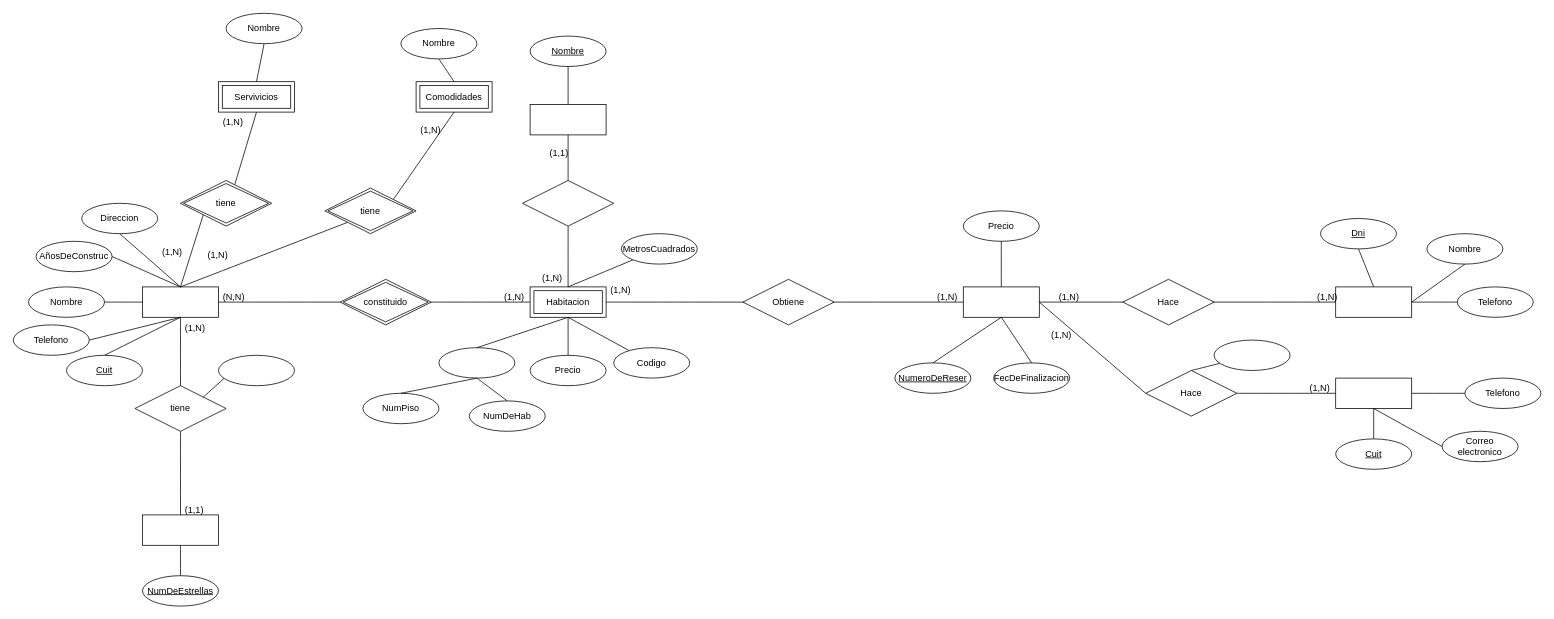
This 1554x619 diagram has some shape labels left out. The shapes that lost their labels are listed below. From the top down, each one's centre as x and y in pixels, then its label:
At (x=567, y=119): "Tipo".
At (x=568, y=203): "Pertenece".
At (x=180, y=301): "Hotel".
At (x=1001, y=301): "Reserva".
At (x=1373, y=301): "Persona".
At (x=256, y=370): "Fecha".
At (x=476, y=362): "Numero".
At (x=1251, y=354): "Descuento".
At (x=1373, y=392): "Agencia".
At (x=180, y=529): "Categoria".
